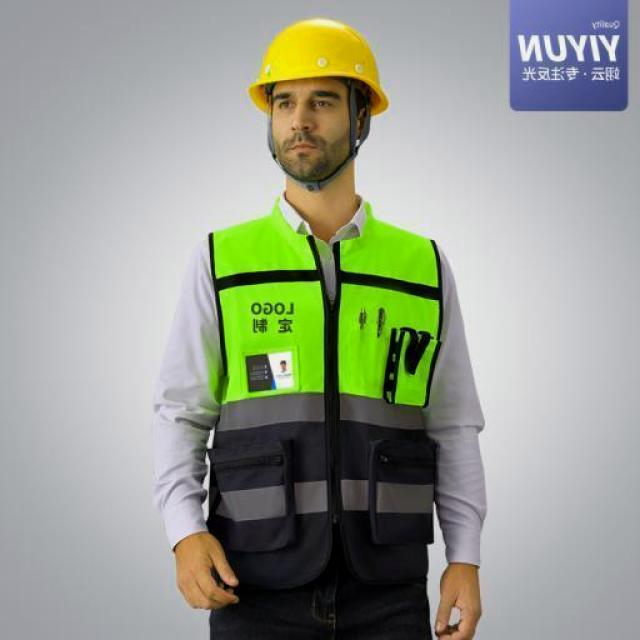face_nomask: (269, 86, 362, 166)
hand_noglove: (165, 520, 253, 618), (423, 551, 495, 640)
head_helmet: (250, 18, 394, 106)
person: (146, 20, 500, 640)
vest: (194, 201, 442, 585)
